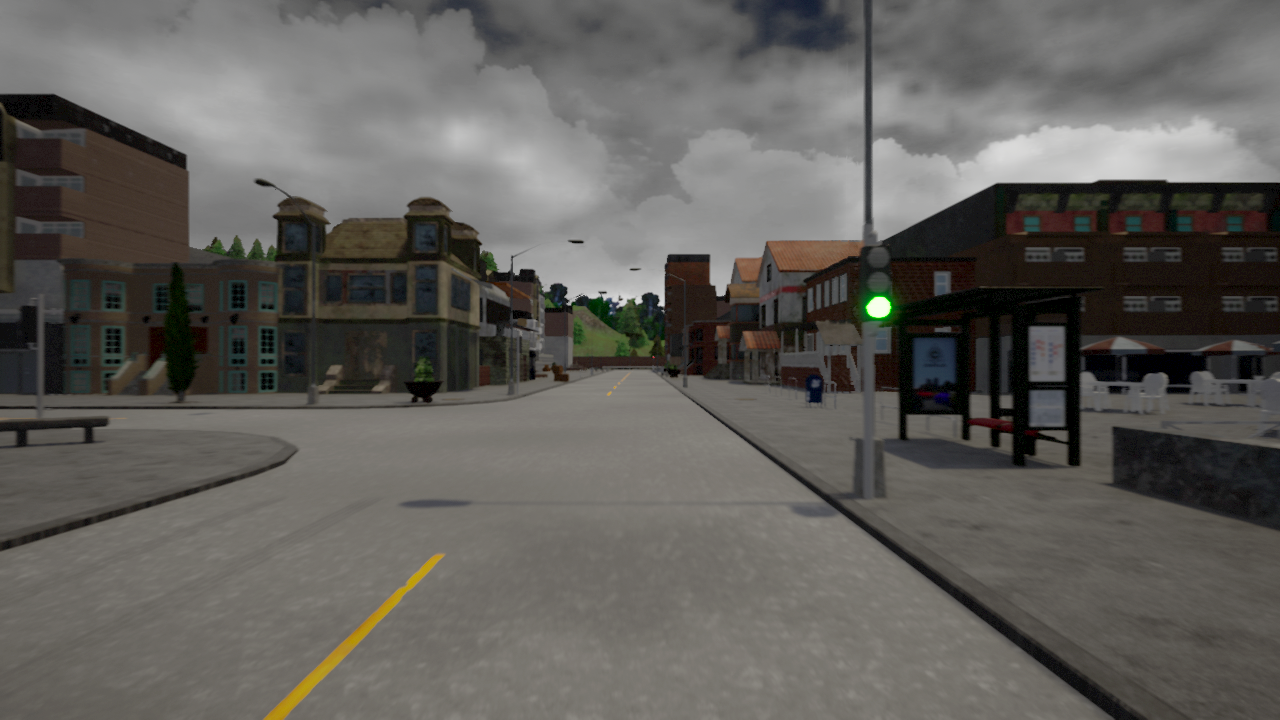green: (855, 243, 893, 325)
